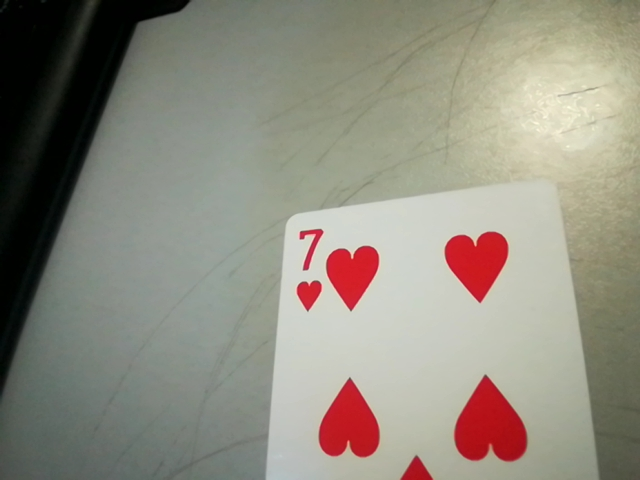hx 7: (287, 221, 330, 315)
